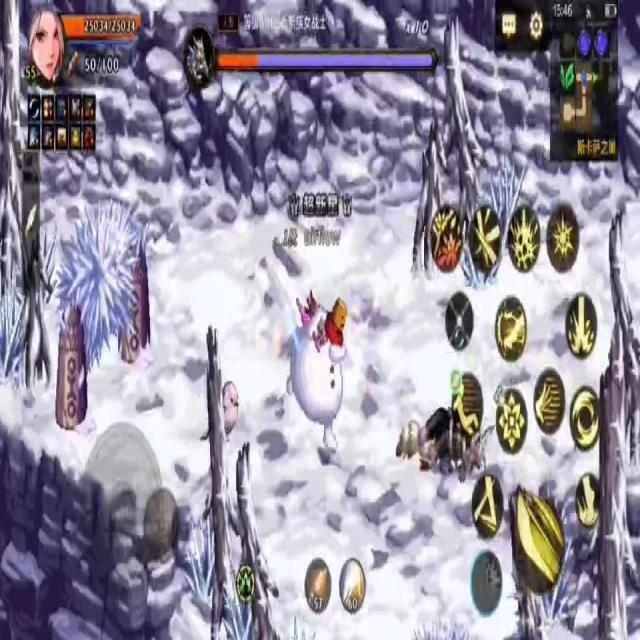player: (289, 290, 346, 457)
